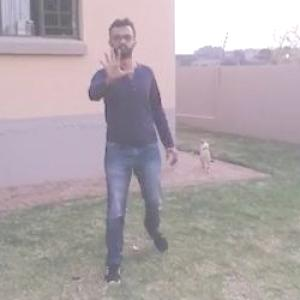follow_hand: (94, 40, 134, 89)
